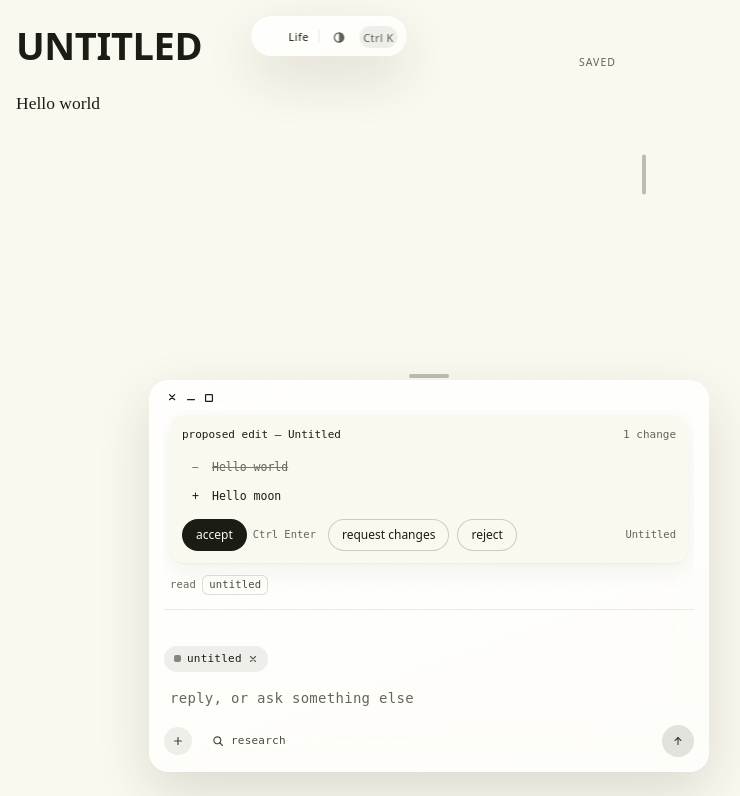
it: KAN-302 path test harness › an accepted card freezes its "−" line past a later edit to the page (KAN-302 item 1)
Expected: the text box named "Message Pond" is enabled, [164, 686, 694, 711]
Expected: the text "Hello world" is shown, [212, 460, 288, 474]
Click the button "accept".
click(214, 535)  # box [182, 519, 247, 551]
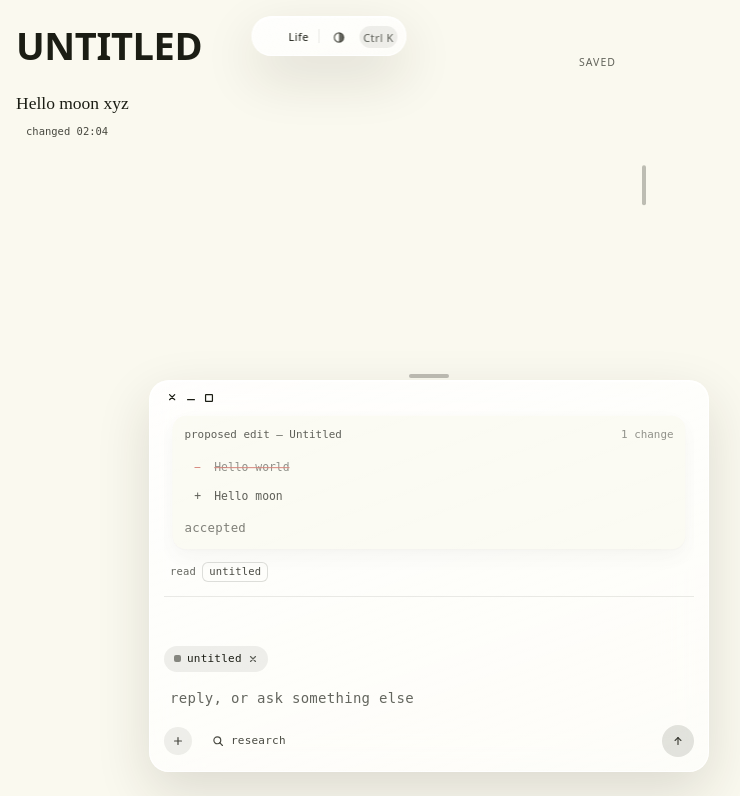
Expected: the text "Hello moon" is shown, [214, 489, 283, 503]
Expected: the text box "Hello moon xyz" is shown, [16, 93, 129, 113]
